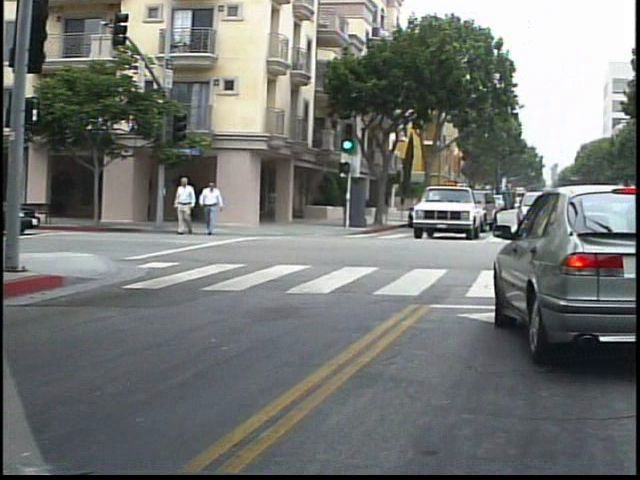person: (206, 174, 234, 239), (179, 175, 205, 241)
